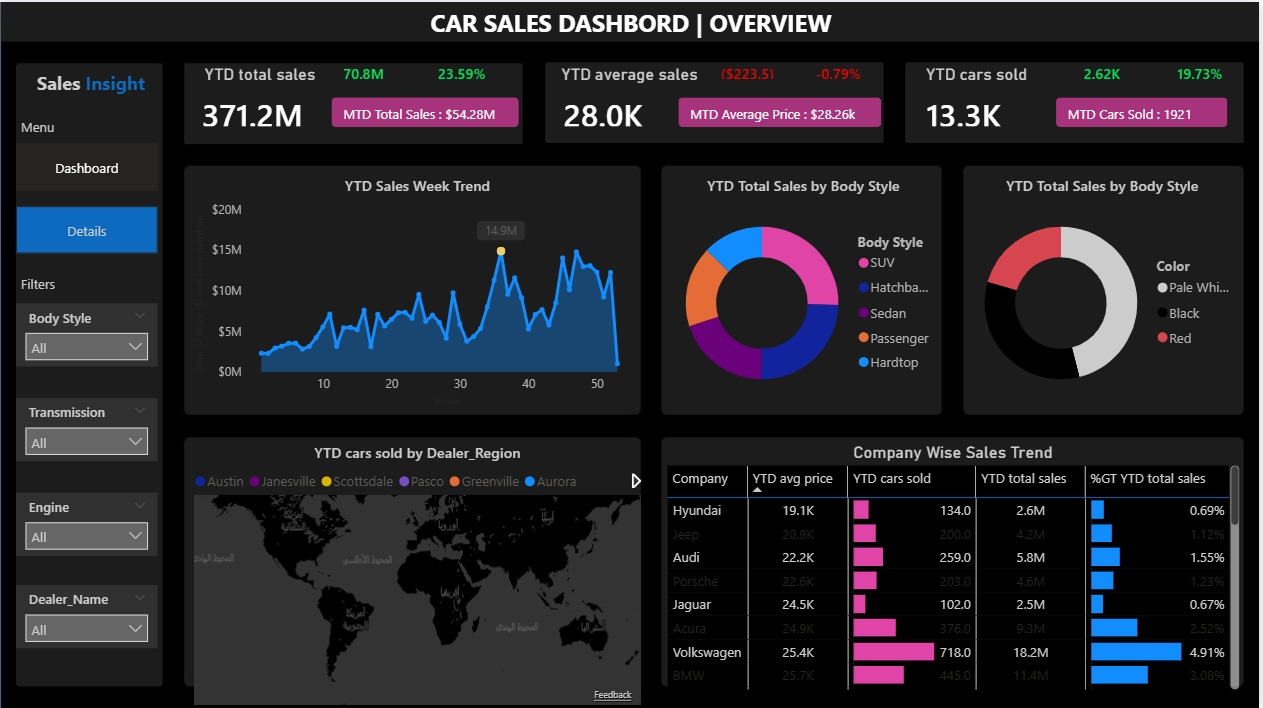

The page's visual inventory and layout, read from the dashboard file:
{"tool":"powerbi","page":{"name":"Dashboard","canvas":[1280,720],"ordinal":0},"visuals":[{"type":"cardVisual","title":"YTD total sales","fields":{"Data":["car_data.YTD total sales"]},"box":[176,64,176,80],"z":0},{"type":"cardVisual","fields":{"Data":["car_data.Sales Difference"]},"box":[320,48,128,48],"z":1000},{"type":"cardVisual","fields":{"Data":["car_data.YOY sales growth"]},"box":[416,48,112,48],"z":2000},{"type":"cardVisual","fields":{"Data":["car_data.MTD KPI"]},"box":[320,80,224,64],"z":3000},{"type":"cardVisual","title":"YTD average sales","fields":{"Data":["car_data.YTD avg price"]},"box":[544,64,192,80],"z":4000},{"type":"cardVisual","fields":{"Data":["car_data.avg price diff"]},"box":[704,48,128,48],"z":5000},{"type":"cardVisual","fields":{"Data":["car_data.YOY avg price growth"]},"box":[800,48,112,48],"z":6000},{"type":"cardVisual","fields":{"Data":["car_data.MTD KPI avg price"]},"box":[672,80,240,64],"z":7000},{"type":"cardVisual","title":"YTD cars sold","fields":{"Data":["car_data.YTD cars sold"]},"box":[912,64,160,80],"z":8000},{"type":"cardVisual","fields":{"Data":["car_data.car diff"]},"box":[1072,48,96,48],"z":9000},{"type":"cardVisual","fields":{"Data":["car_data.MTD KPI CAR SOLD"]},"box":[1056,80,208,64],"z":10000},{"type":"cardVisual","fields":{"Data":["car_data.YOY cars sold"]},"box":[1168,48,112,48],"z":11000},{"type":"areaChart","title":"YTD Sales Week Trend","fields":{"Category":["Calender Table.Week"],"Y":["Sum(car_data.Price ($))","car_data.max point on area chart"]},"box":[192,176,464,240],"z":12000},{"type":"donutChart","title":"YTD Total Sales by Body Style","fields":{"Category":["car_data.Body Style"],"Y":["Sum(car_data.Price ($))"]},"box":[672,176,288,240],"z":13000},{"type":"donutChart","title":"YTD Total Sales by Body Style","fields":{"Y":["Sum(car_data.Price ($))"],"Category":["car_data.Color"]},"box":[976,176,288,240],"z":14000},{"type":"azureMap","fields":{"Series":["car_data.Dealer_Region"],"Size":["car_data.YTD cars sold"]},"box":[192,448,464,272],"z":15000},{"type":"tableEx","title":"Company Wise Sales Trend","fields":{"Values":["car_data.Company","car_data.YTD avg price","car_data.YTD cars sold","car_data.YTD total sales1","car_data.YTD total sales"]},"box":[672,448,592,256],"z":16000},{"type":"slicer","title":"Body Style","fields":{"Values":["car_data.Body Style"]},"box":[16,306.6,144,64],"z":17000},{"type":"textbox","box":[432,0,432,48],"z":18000},{"type":"slicer","title":"Body Style","fields":{"Values":["car_data.Transmission"]},"box":[16,402.7,144,64],"z":19000},{"type":"slicer","title":"Body Style","fields":{"Values":["car_data.Engine"]},"box":[16,498.6,144,64],"z":20000},{"type":"slicer","title":"Body Style","fields":{"Values":["car_data.Dealer_Name"]},"box":[16,592,144,64],"z":21000},{"type":"pageNavigator","box":[16,208,144,48],"z":22000},{"type":"pageNavigator","box":[16,144,144,48],"z":23000},{"type":"textbox","box":[16,272,80,32],"z":24000},{"type":"textbox","box":[16,112,80,32],"z":25000},{"type":"textbox","box":[32,64,128,48],"z":26000}]}

Visuals, with their boxes in screenshot pixels (x1, y1, x2, y2), scaled from the page's 1280x720 canvas onto the 1263x708 screenshot:
"YTD total sales" cardVisual: (left=174, top=63, right=347, bottom=142)
cardVisual - car_data.Sales Difference: (left=316, top=47, right=442, bottom=94)
cardVisual - car_data.YOY sales growth: (left=410, top=47, right=521, bottom=94)
cardVisual - car_data.MTD KPI: (left=316, top=79, right=537, bottom=142)
"YTD average sales" cardVisual: (left=537, top=63, right=726, bottom=142)
cardVisual - car_data.avg price diff: (left=695, top=47, right=821, bottom=94)
cardVisual - car_data.YOY avg price growth: (left=789, top=47, right=900, bottom=94)
cardVisual - car_data.MTD KPI avg price: (left=663, top=79, right=900, bottom=142)
"YTD cars sold" cardVisual: (left=900, top=63, right=1058, bottom=142)
cardVisual - car_data.car diff: (left=1058, top=47, right=1152, bottom=94)
cardVisual - car_data.MTD KPI CAR SOLD: (left=1042, top=79, right=1247, bottom=142)
cardVisual - car_data.YOY cars sold: (left=1152, top=47, right=1262, bottom=94)
"YTD Sales Week Trend" areaChart: (left=189, top=173, right=647, bottom=409)
"YTD Total Sales by Body Style" donutChart: (left=663, top=173, right=947, bottom=409)
"YTD Total Sales by Body Style" donutChart: (left=963, top=173, right=1247, bottom=409)
azureMap - car_data.Dealer_Region x car_data.YTD cars sold: (left=189, top=441, right=647, bottom=707)
"Company Wise Sales Trend" tableEx: (left=663, top=441, right=1247, bottom=692)
"Body Style" slicer: (left=16, top=301, right=158, bottom=364)
textbox: (left=426, top=0, right=853, bottom=47)
"Body Style" slicer: (left=16, top=396, right=158, bottom=459)
"Body Style" slicer: (left=16, top=490, right=158, bottom=553)
"Body Style" slicer: (left=16, top=582, right=158, bottom=645)
pageNavigator: (left=16, top=205, right=158, bottom=252)
pageNavigator: (left=16, top=142, right=158, bottom=189)
textbox: (left=16, top=267, right=95, bottom=299)
textbox: (left=16, top=110, right=95, bottom=142)
textbox: (left=32, top=63, right=158, bottom=110)
